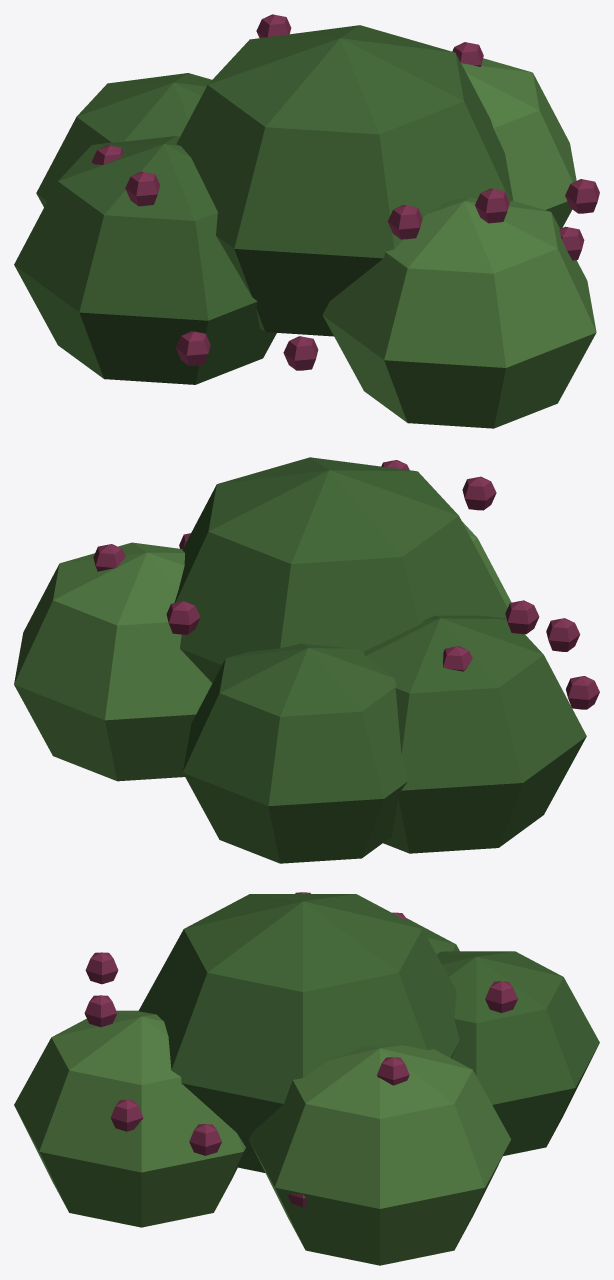
File: bramble.glb
3 renders of one model, top to bottom at view 1: azimuth 30°, elevation 25°; view 2: azimuth 150°, elevation 25°; view 3: azimuth 270°, elevation 25°, orthographic. The views are drawn at different scales.
Visible parts, largest first — view 1: bramble; view 2: bramble; view 3: bramble.
Boxes of the visible parts, <box> form: bramble: <box>14,14,599,428</box>; bramble: <box>14,457,599,863</box>; bramble: <box>14,892,599,1265</box>.
Bounding box in the file's own units: 1.47 × 0.8615 × 1.52.
